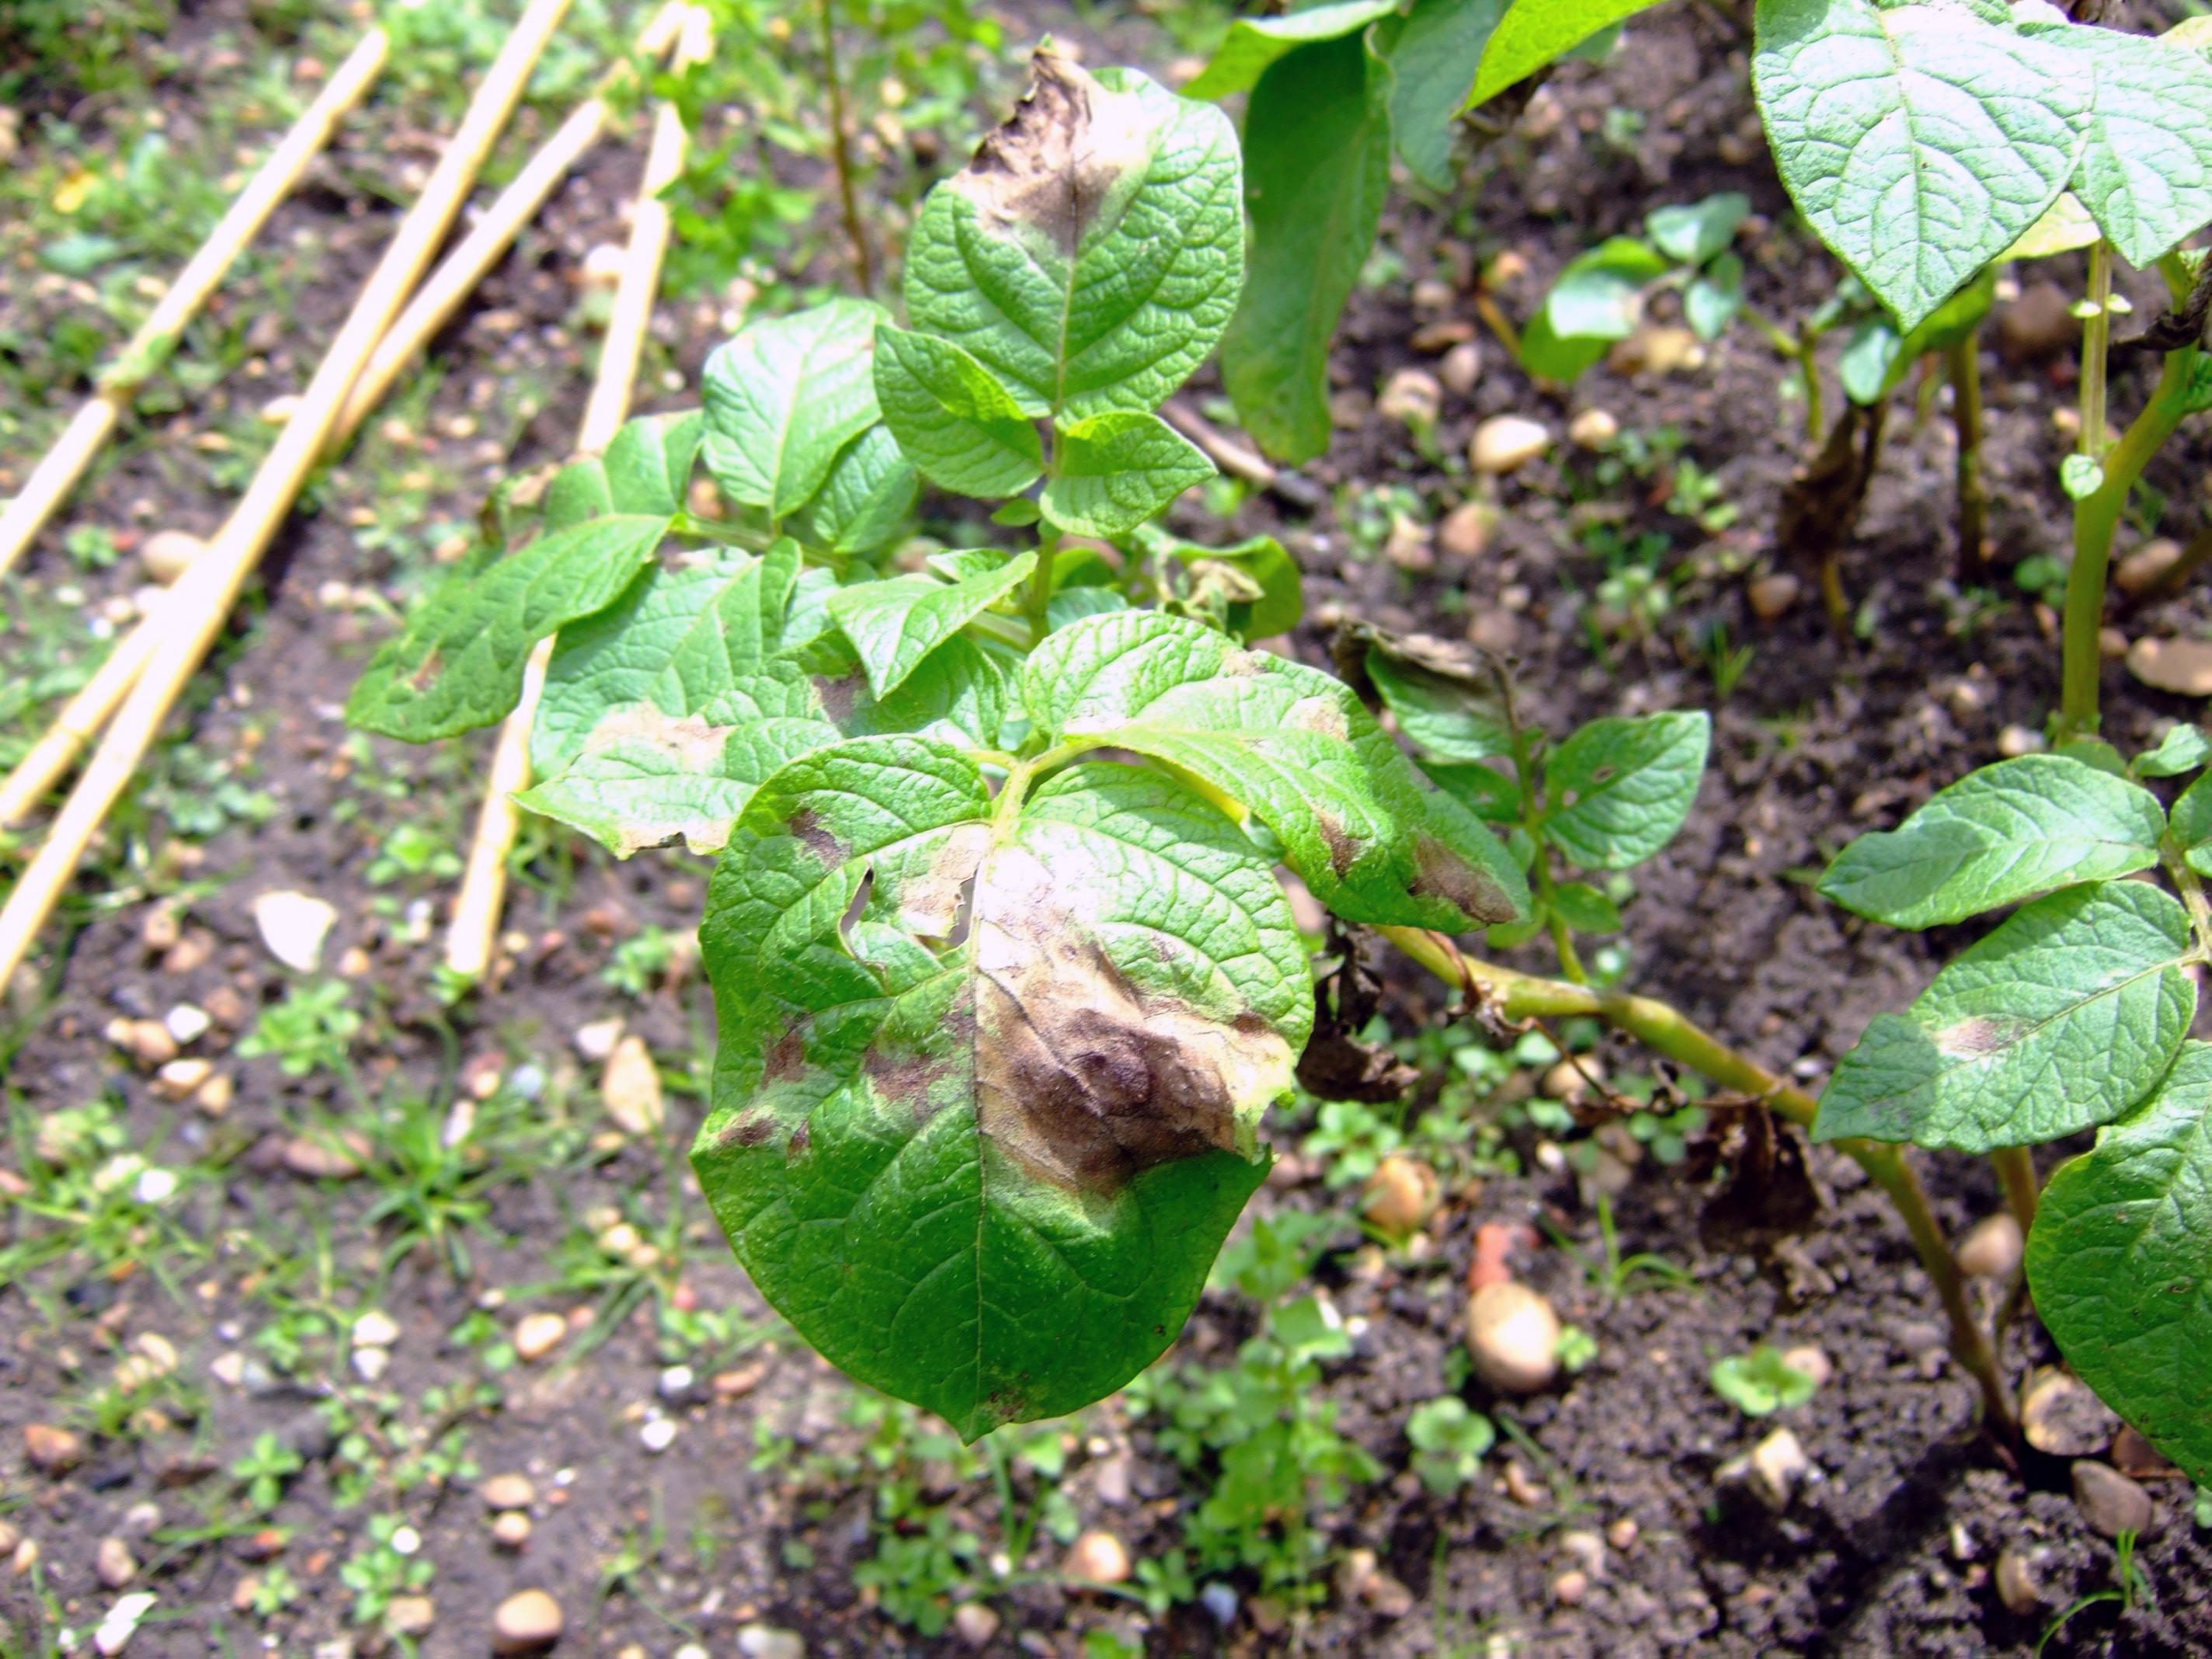Tomato leaf late blight: (658, 742, 1315, 1408)
